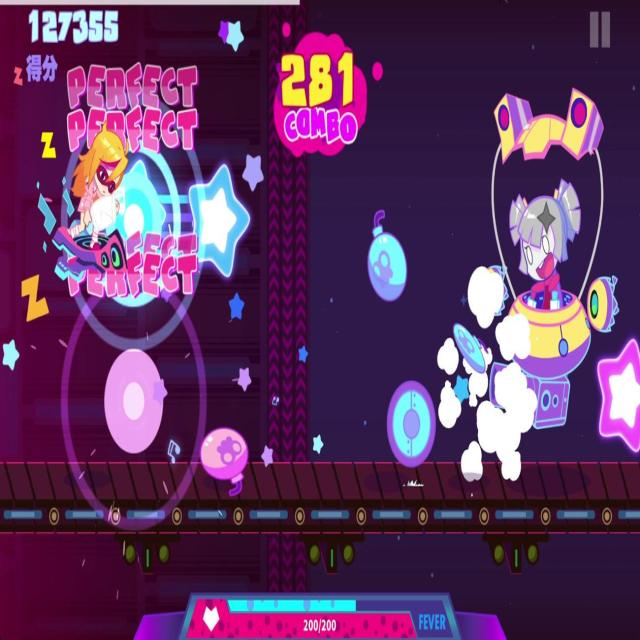ci: (379, 370, 444, 478)
hold: (99, 147, 253, 280)
qiangboss: (478, 81, 621, 439)
tang: (362, 199, 414, 304), (198, 417, 254, 509)
